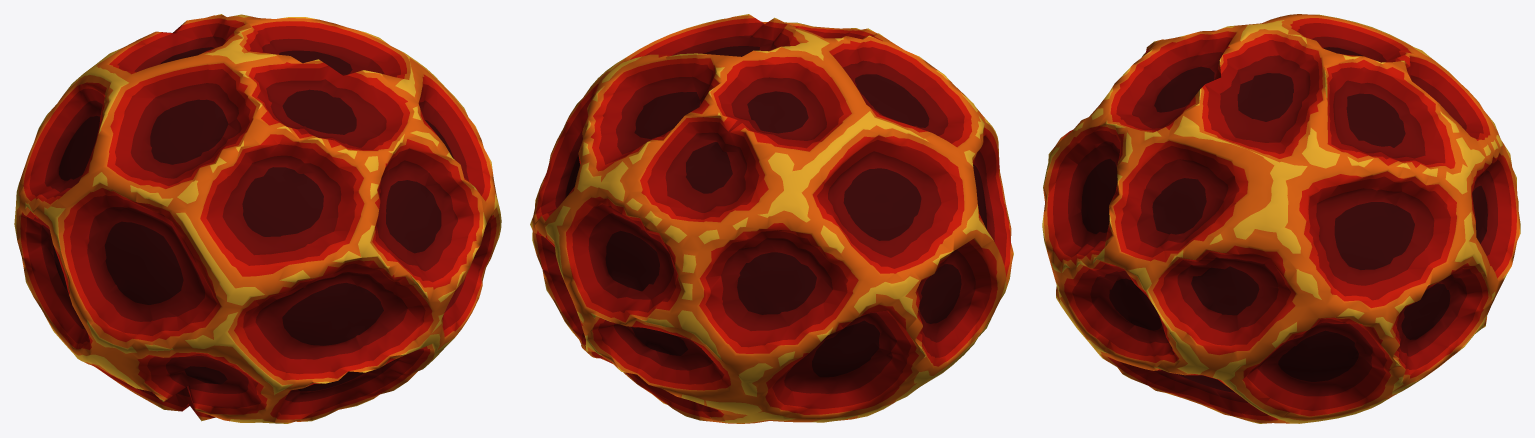
File: cell_sphere.glb
3 views of the same model, side by side, from view 1: azimuth 30°, elevation 25°; view 2: azimuth 150°, elevation 25°; view 3: azimuth 270°, elevation 25° (orthographic).
Visible parts, largest first — view 1: cells; view 2: cells; view 3: cells.
Part boxes in pixels (left/top/right/bottom): cells: left=14, top=14, right=501, bottom=423; cells: left=530, top=14, right=1013, bottom=423; cells: left=1042, top=14, right=1520, bottom=423.
Size of the model in its own units: 22.52 by 18.52 by 22.49.
